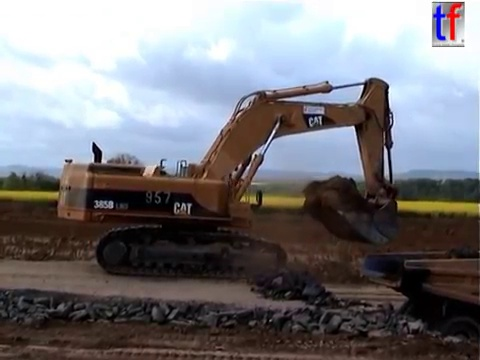excavator: (54, 74, 402, 283)
truck: (356, 248, 480, 360)
